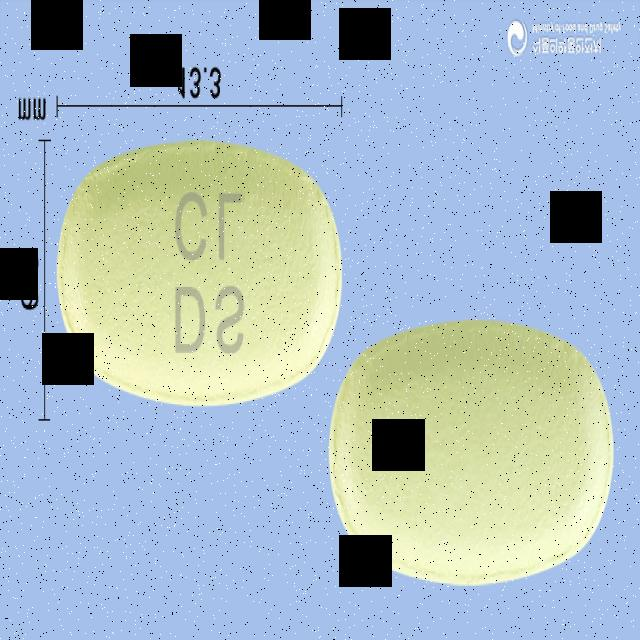Heracin: (57, 140, 343, 411), (328, 320, 614, 589)
